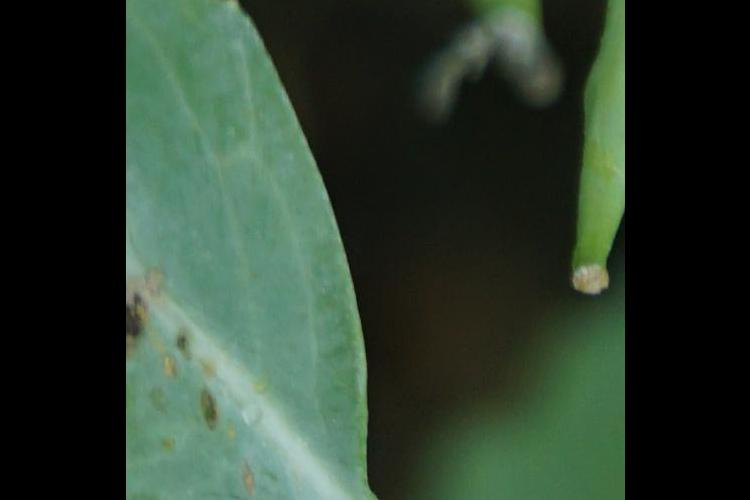pod: (571, 1, 619, 300)
